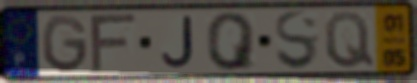F: (88, 12, 140, 75)
G: (40, 13, 90, 75)
J: (159, 14, 197, 70)
Q: (204, 10, 258, 73), (322, 10, 377, 71)
S: (272, 8, 321, 73)
